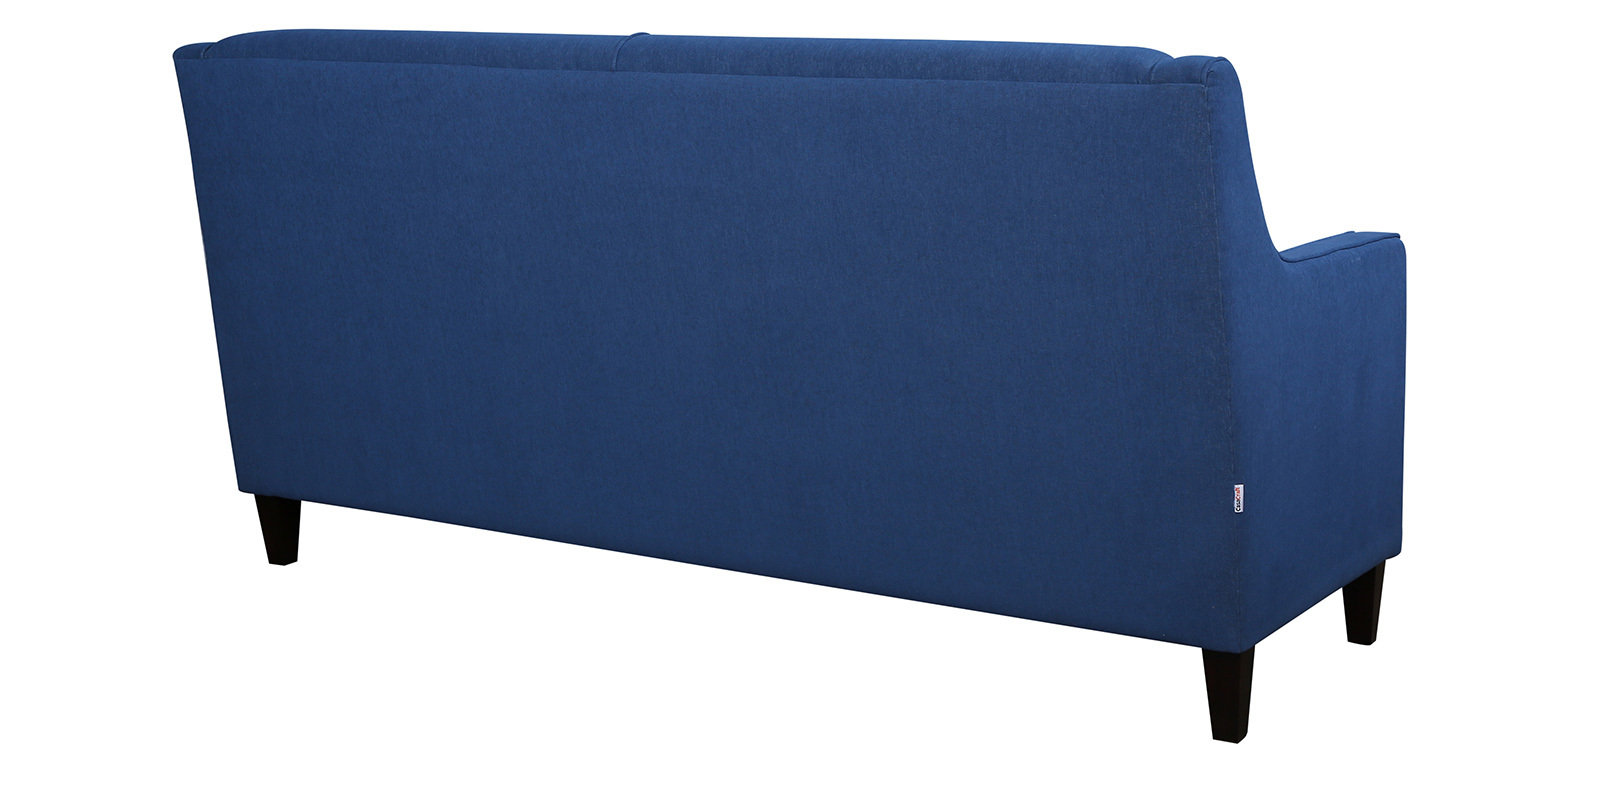Oscar Three Seater Sofa in Denim Blue Colour by CasaCraft: (172, 24, 1407, 744)
